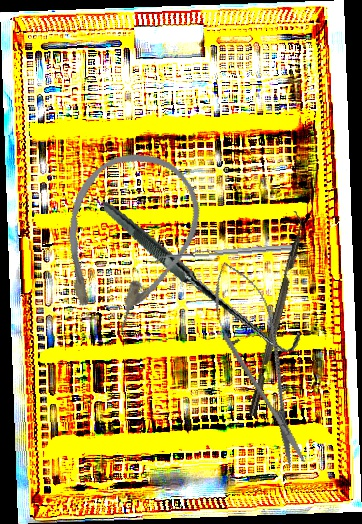Cannula: (36, 135, 216, 347)
Chopper: (238, 210, 310, 417)
Hook Surgical: (102, 169, 303, 381)
Micro Scissor: (199, 254, 323, 474)
Spatula Surgical: (154, 244, 293, 266)
